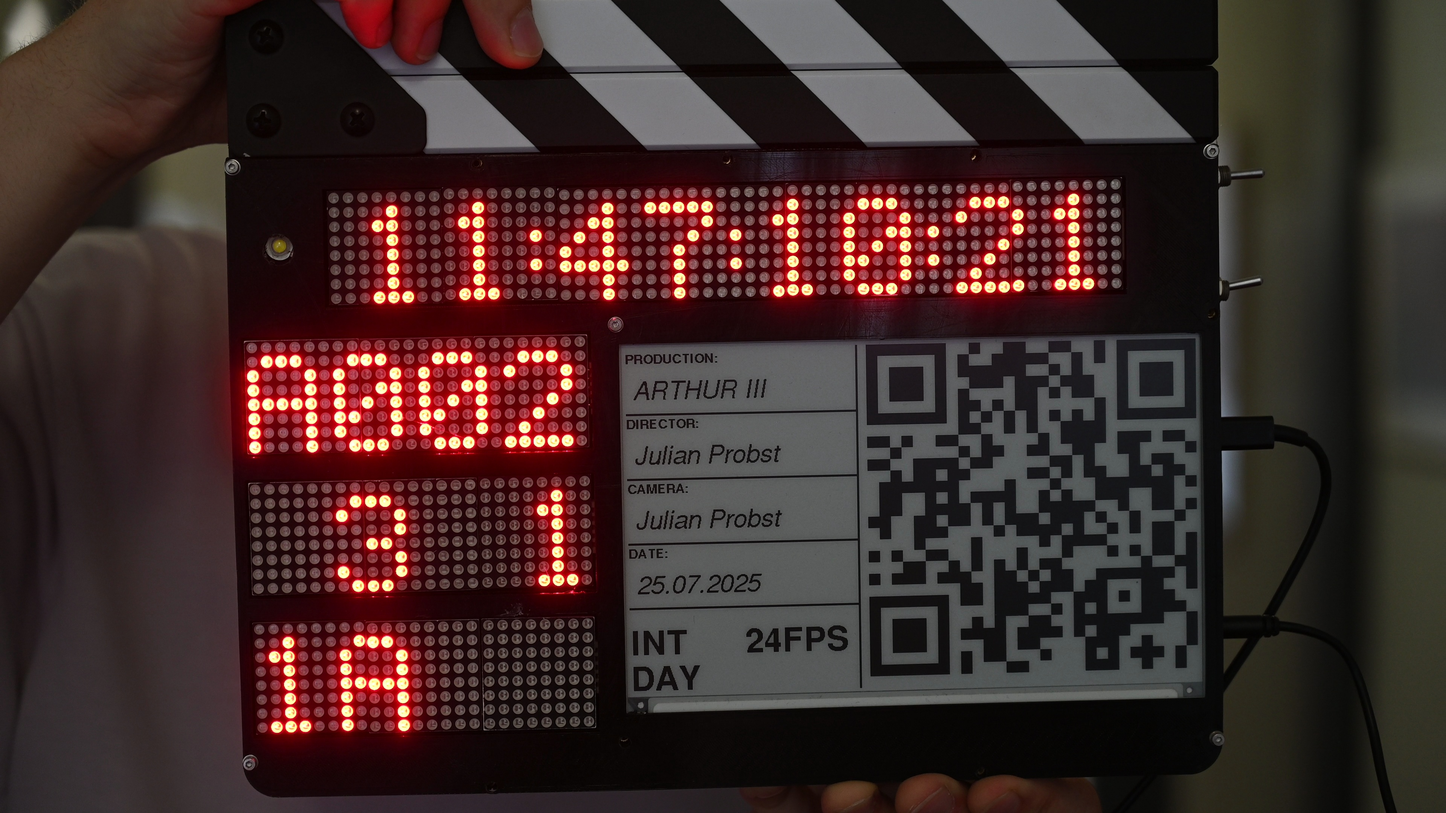ARC-SLATE: (229, 61, 1215, 795)
